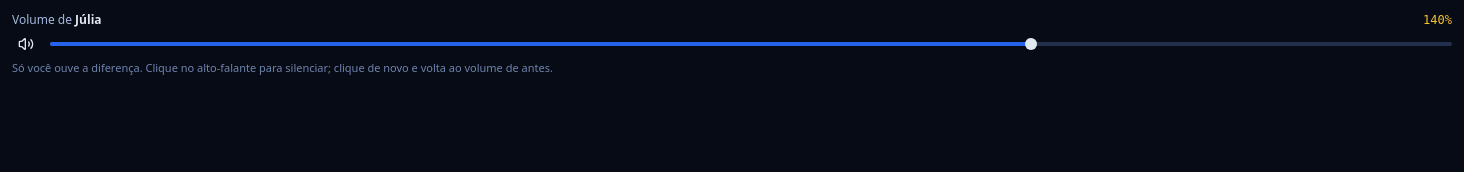
Test: o controle de volume de uma pessoa › o alto-falante silencia só para você e, de novo, volta ao volume de antes
Later steps or results of the test are not shown.
What coordinates should you click on to do the following:
click the button named "Silenciar Júlia só para você"
I would click on:
 (26, 44)
Its box is [12,30,40,58].
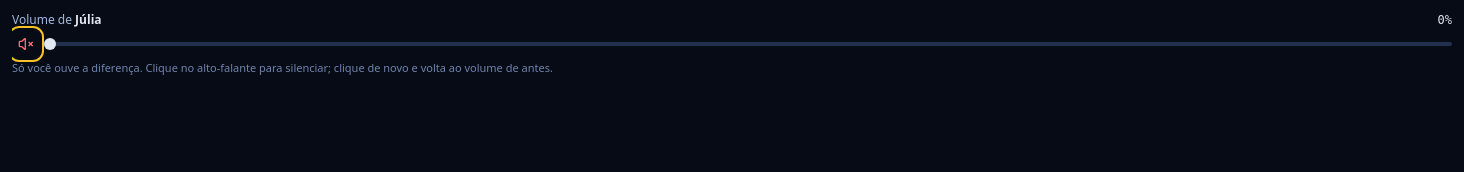
Expected: the text "0%" is shown, [1438,12,1452,28]
Now the button named "Silenciar Júlia só para você" is pressed, box [12,30,40,58]
